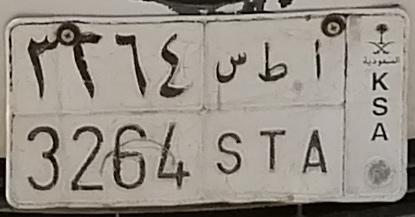2: (70, 31, 104, 193)
3: (26, 34, 62, 191)
4: (158, 33, 191, 190)
6: (113, 33, 149, 190)
A: (301, 39, 329, 175)
S: (215, 51, 248, 175)
T: (257, 39, 290, 175)
